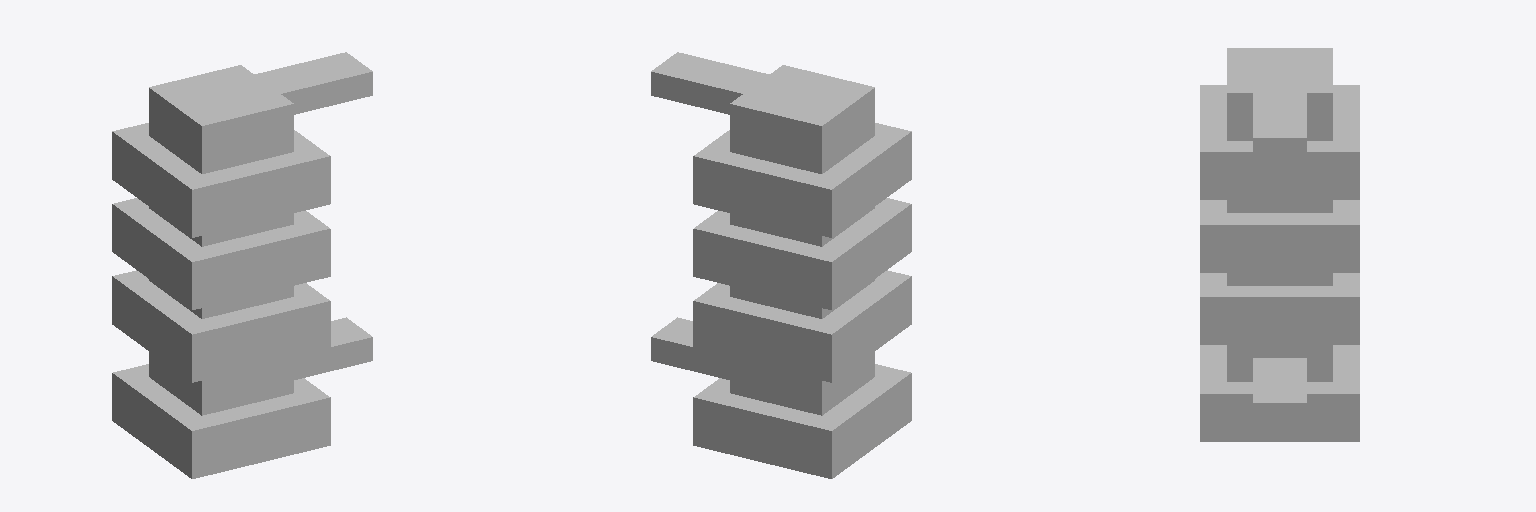
Rendered from discharge_meter.obj.
3 views of the same model, side by side, from view 1: azimuth 30°, elevation 25°; view 2: azimuth 150°, elevation 25°; view 3: azimuth 270°, elevation 25° (orthographic).
Visible parts, largest first — view 1: insulator; view 2: insulator; view 3: insulator.
Boxes of the visible parts, x1,y1,x2,y2 form: insulator: [112, 52, 372, 478]; insulator: [651, 52, 911, 478]; insulator: [1200, 48, 1359, 441].
Bounding box in the file's own units: 0.5625 × 0.875 × 0.375.